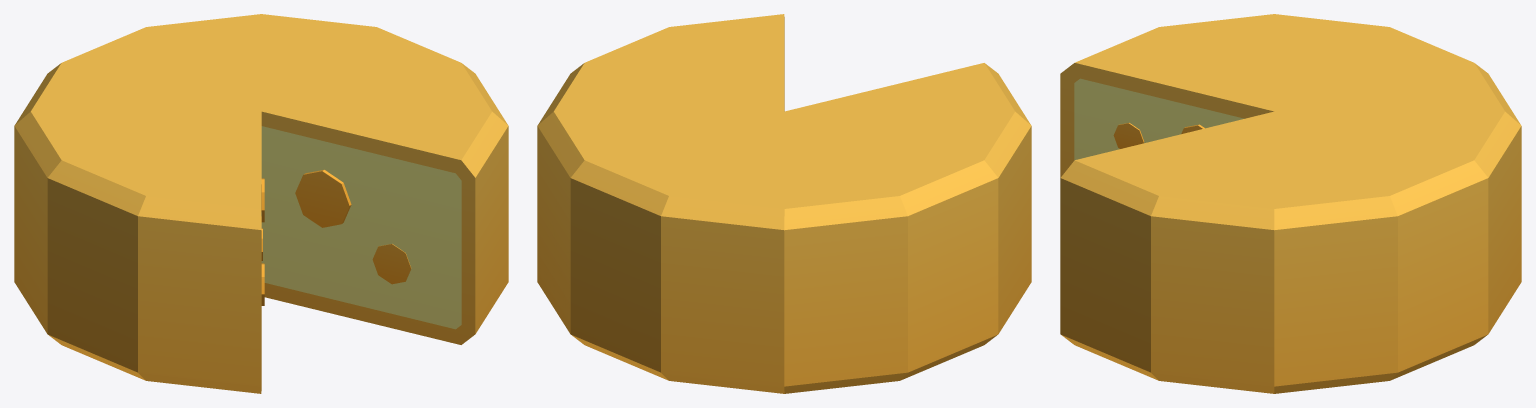
Rendered from cheese-2.glb.
The picture shows the model from 3 angles, left to right: view 1: azimuth 30°, elevation 25°; view 2: azimuth 150°, elevation 25°; view 3: azimuth 270°, elevation 25°; orthographic projection.
Parts seen in each view (by area): view 1: cheese 2; view 2: cheese 2; view 3: cheese 2.
Boxes of the visible parts, box(x1,y1,x2,y2) form: cheese 2: box(14, 14, 508, 393); cheese 2: box(537, 14, 1031, 393); cheese 2: box(1060, 14, 1521, 393).
Size of the model in its own units: 0.5191 by 0.2144 by 0.4844.
Materials: 1 (1 with a texture image).
